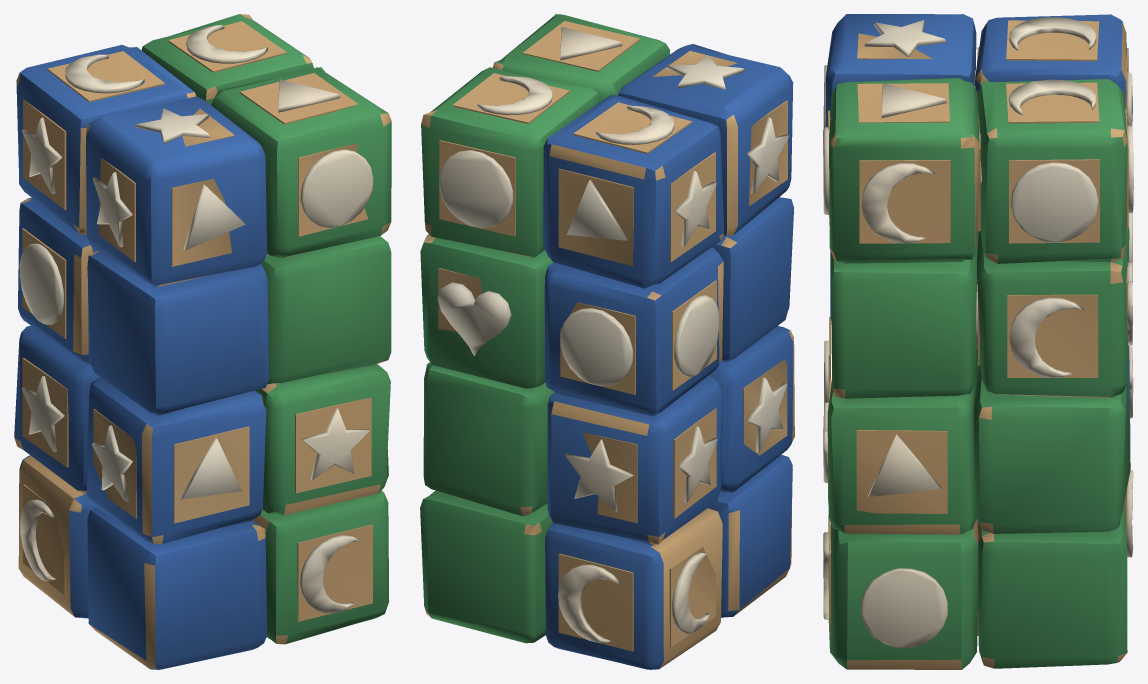
Rendered from den_castle_keep_lod1.glb.
The picture shows the model from 3 angles, left to right: view 1: azimuth 30°, elevation 25°; view 2: azimuth 150°, elevation 25°; view 3: azimuth 270°, elevation 25°; orthographic projection. The views are drawn at different scales.
Visible parts, largest first — view 1: den_castle_keep.001; view 2: den_castle_keep.001; view 3: den_castle_keep.001.
Part boxes in pixels (x1=…): den_castle_keep.001: x1=14, y1=14, x2=391, y2=669; den_castle_keep.001: x1=420, y1=14, x2=794, y2=669; den_castle_keep.001: x1=823, y1=14, x2=1133, y2=669.
Bounding box in the file's own units: 9.39 × 18.21 × 9.39.
